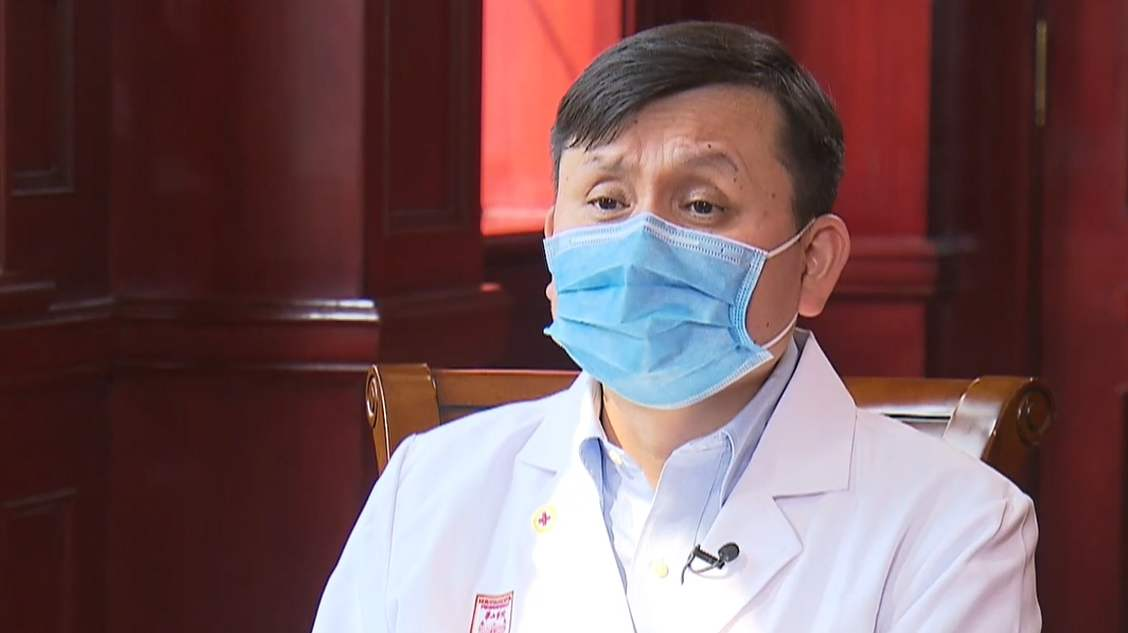mask: (533, 97, 814, 407)
